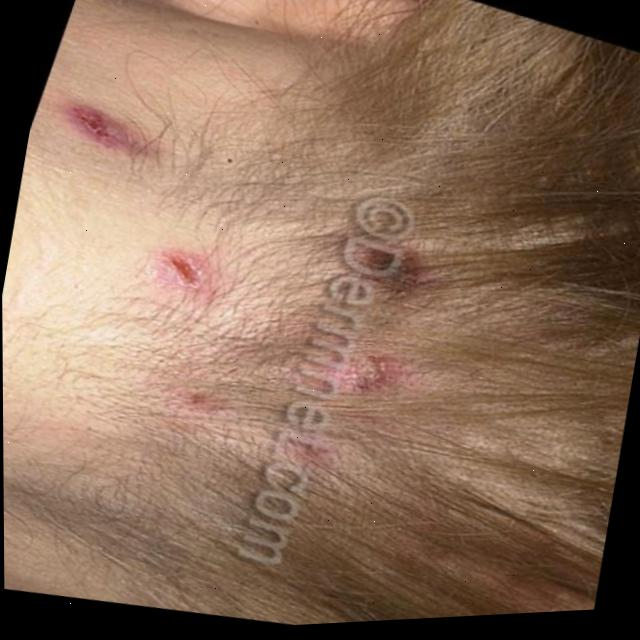Eczema: (65, 89, 146, 162), (339, 338, 399, 406), (168, 245, 221, 289), (373, 243, 427, 286), (289, 428, 334, 462), (196, 384, 218, 410)
